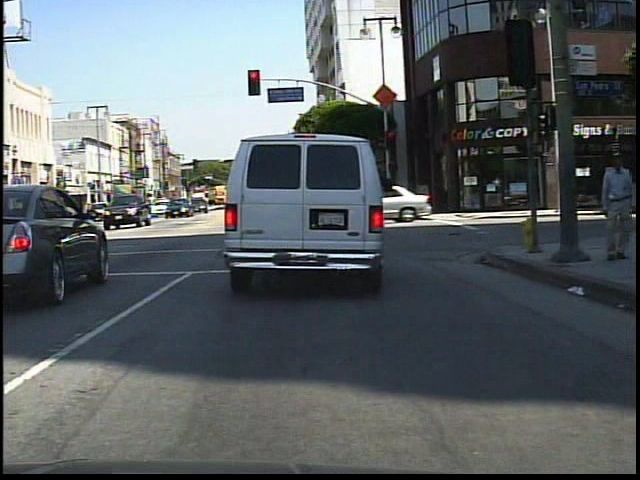person: (596, 147, 634, 264)
